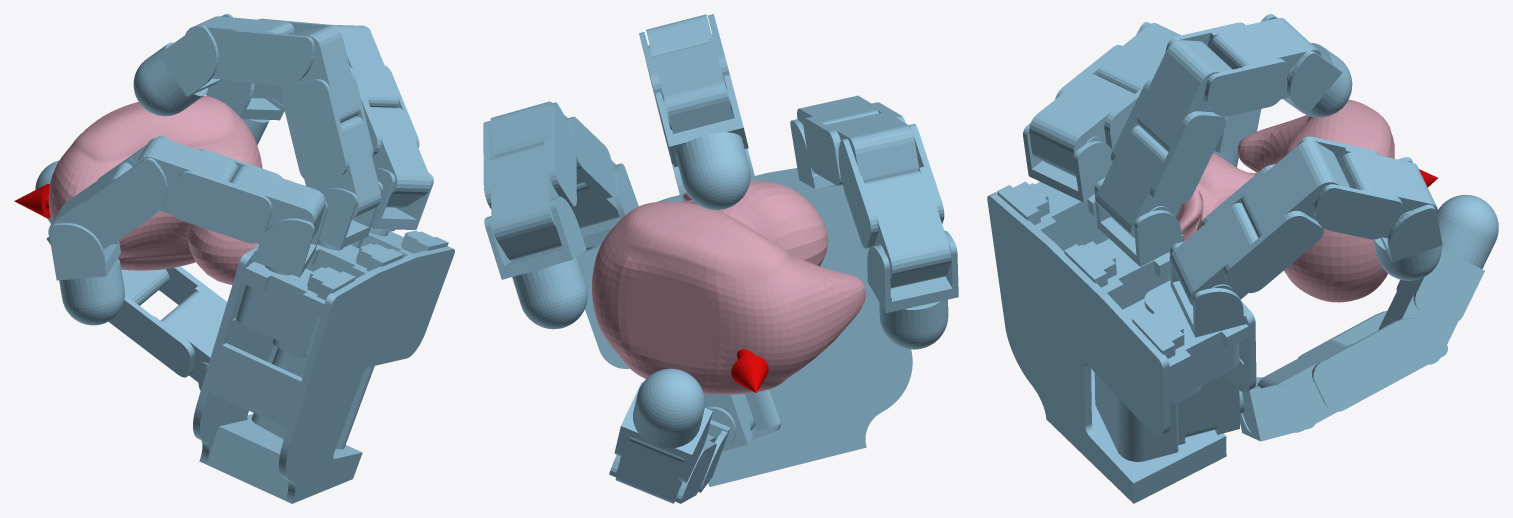
3 renders of one model, left to right at view 1: azimuth 30°, elevation 25°; view 2: azimuth 150°, elevation 25°; view 3: azimuth 270°, elevation 25°, orthographic. The views are drawn at different scales.
Visible parts, largest first — view 1: world, rubber_duck.stl; view 2: world, rubber_duck.stl; view 3: world, rubber_duck.stl.
Part boxes in pixels (box(x1,y1,x2,y2)): world: box(14, 14, 454, 503); rubber_duck.stl: box(48, 95, 305, 284); world: box(483, 14, 958, 503); rubber_duck.stl: box(592, 181, 865, 394); world: box(987, 14, 1498, 503); rubber_duck.stl: box(1169, 99, 1394, 302).
Size of the model in its own units: 0.1679 by 0.1814 by 0.1858.
